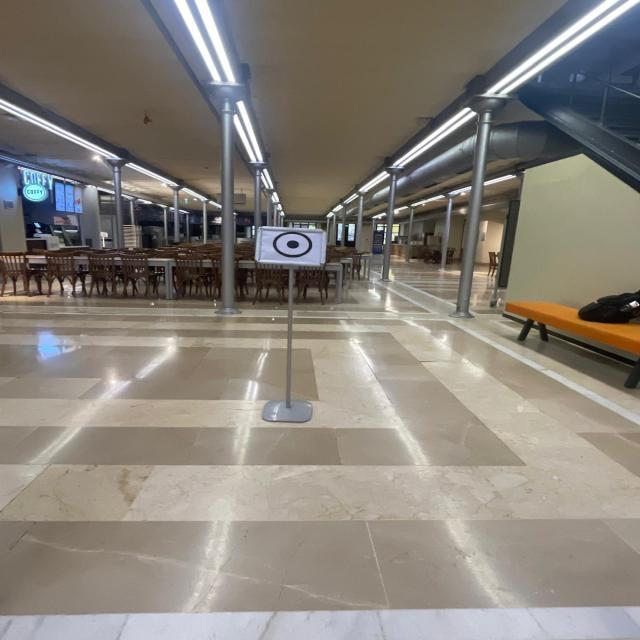Target: (246, 213, 338, 276)
inner: (282, 236, 304, 255)
